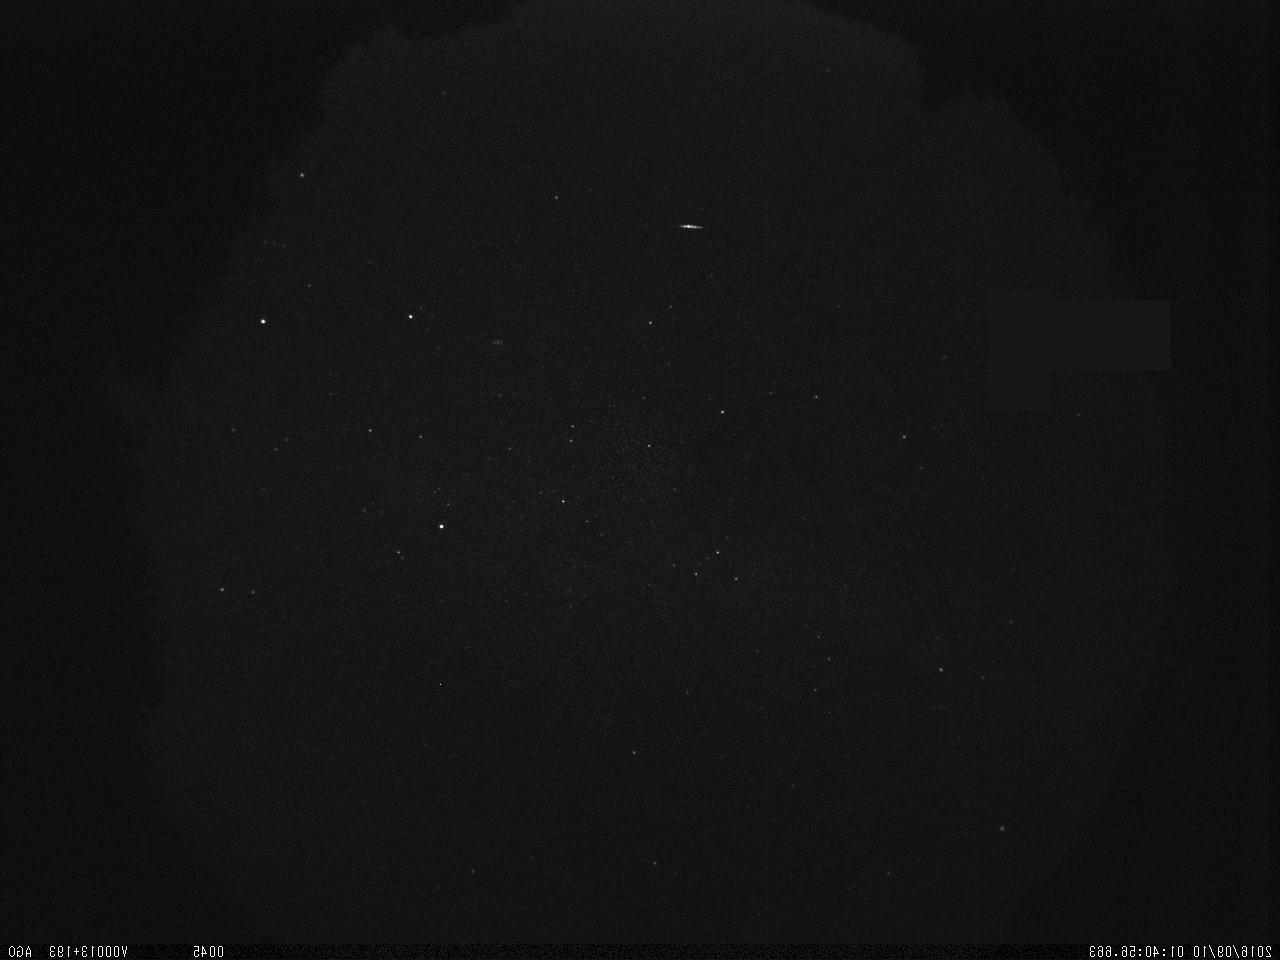meteor: (668, 218, 700, 237)
